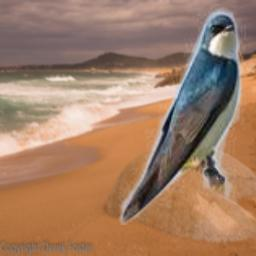Swallow: (116, 4, 246, 225)
